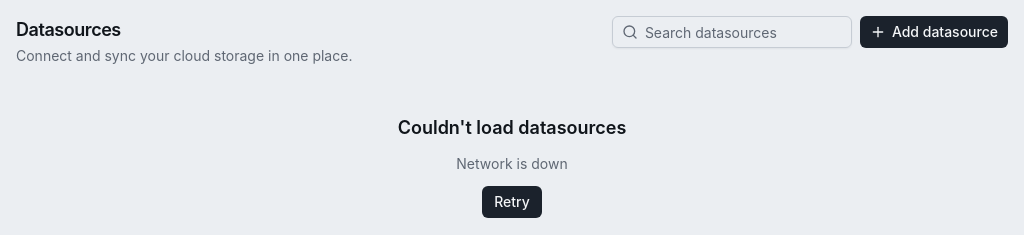
Scenario: DatasourcesDashboard state machine (task 5.1) › failed list: error panel with retry re-invokes list() and recovers
Expected: the text "Network is down" is shown, top-left (456, 154), bottom-right (568, 174)
Step 1. Click the button "Retry" → (512, 202), box top-left (482, 186), bottom-right (542, 218)
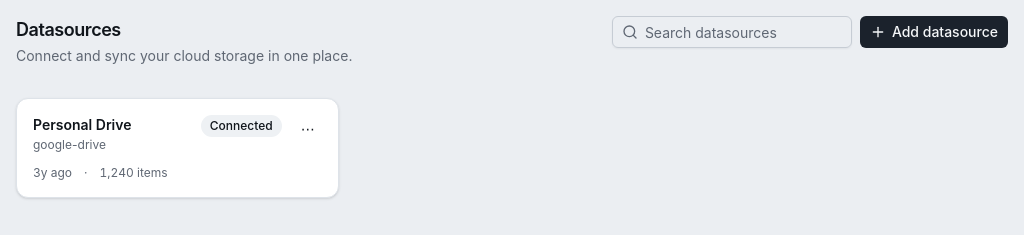
Result: the number of elements with test id "datasource-card" is 1 at top-left (16, 98), bottom-right (339, 198)
